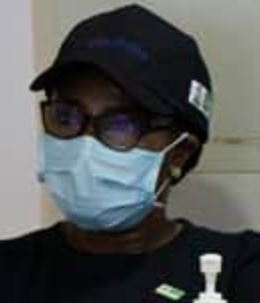with_facemask: (25, 128, 173, 236)
